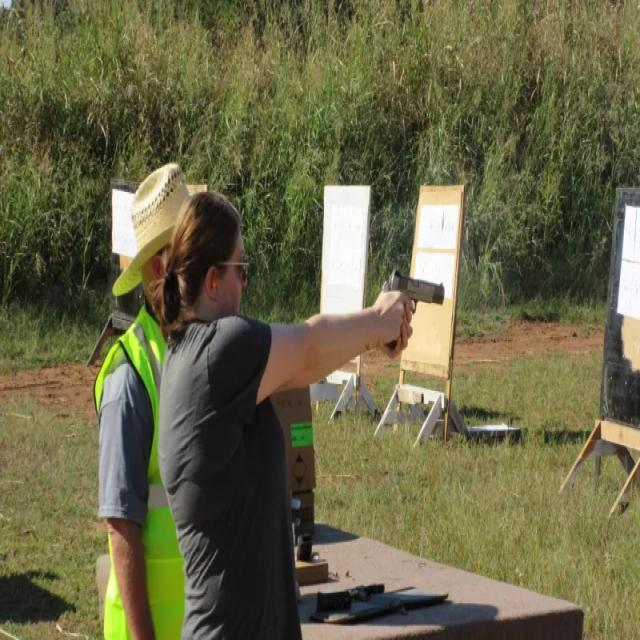pistol: (365, 264, 471, 374)
